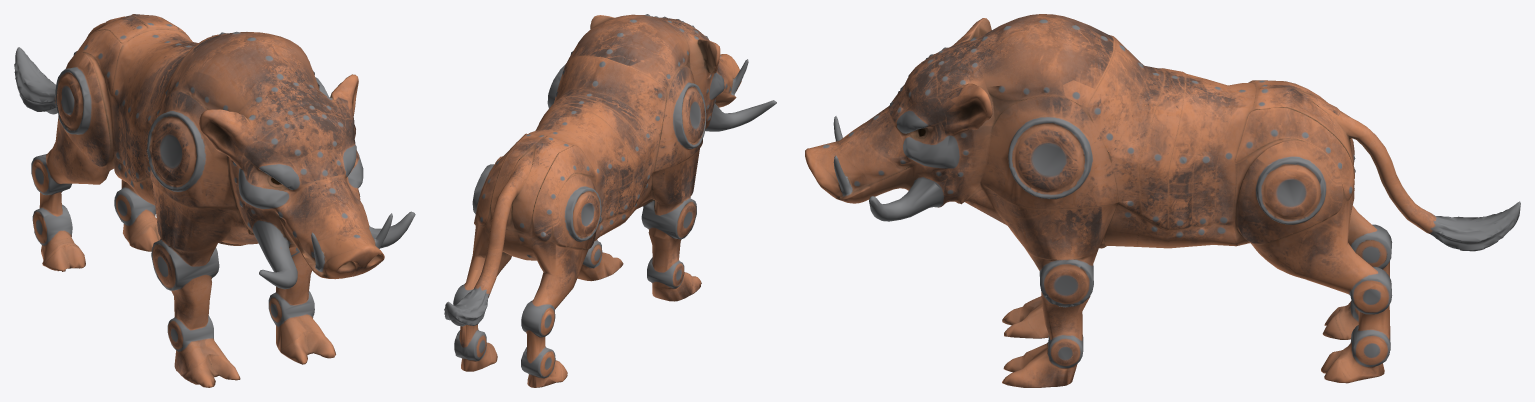
The model's file is MZ4250 - Clockwork Boar - Copper.glb.
The picture shows the model from 3 angles, left to right: view 1: azimuth 30°, elevation 25°; view 2: azimuth 150°, elevation 25°; view 3: azimuth 270°, elevation 25°; orthographic projection. The views are drawn at different scales.
Parts seen in each view (by area): view 1: Clockwork Boar_low.002; view 2: Clockwork Boar_low.002; view 3: Clockwork Boar_low.002.
Part boxes in pixels (left/top/right/bottom): Clockwork Boar_low.002: left=14, top=14, right=415, bottom=387; Clockwork Boar_low.002: left=444, top=14, right=776, bottom=387; Clockwork Boar_low.002: left=805, top=14, right=1520, bottom=387.
Bounding box in the file's own units: 0.3961 × 0.713 × 1.39.
1 material, 1 textured.
